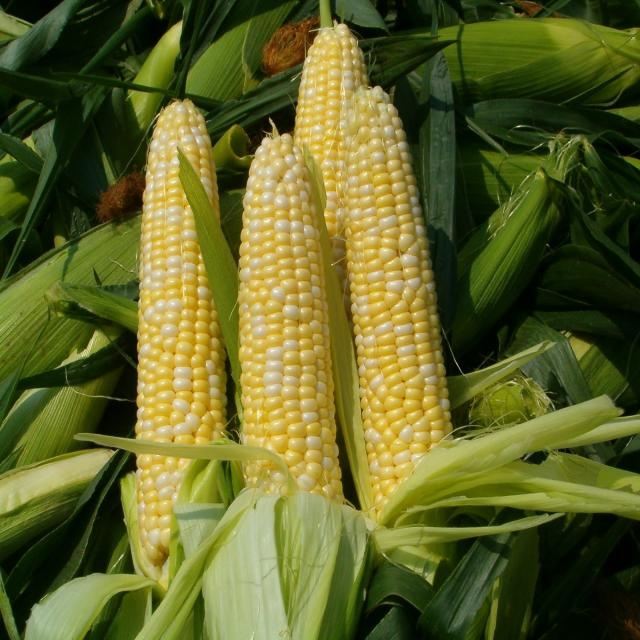corn: (338, 80, 462, 531), (134, 95, 230, 594), (236, 122, 338, 516)
